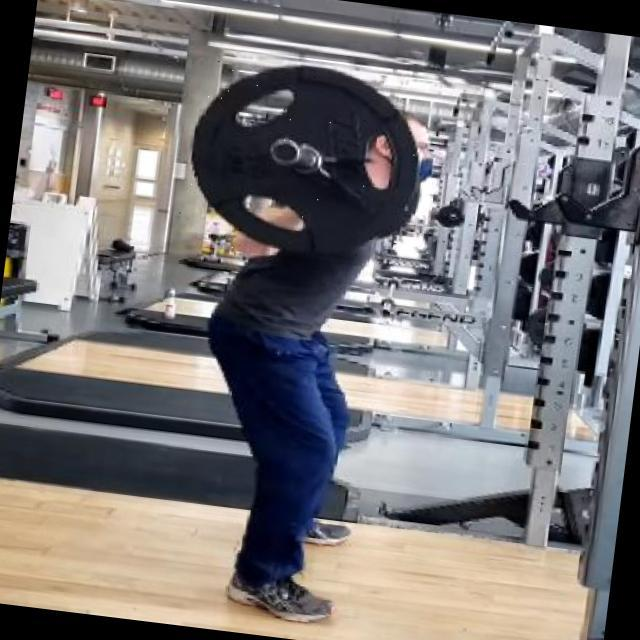barbell: (165, 45, 446, 273)
